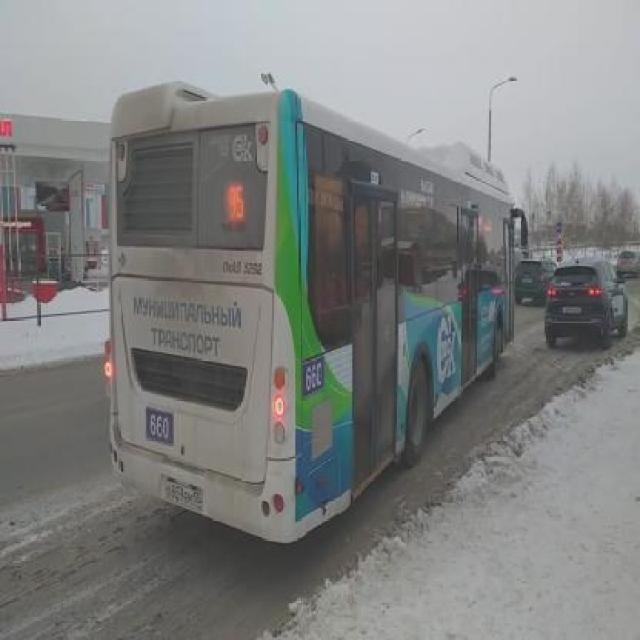Bus: (102, 78, 528, 545)
